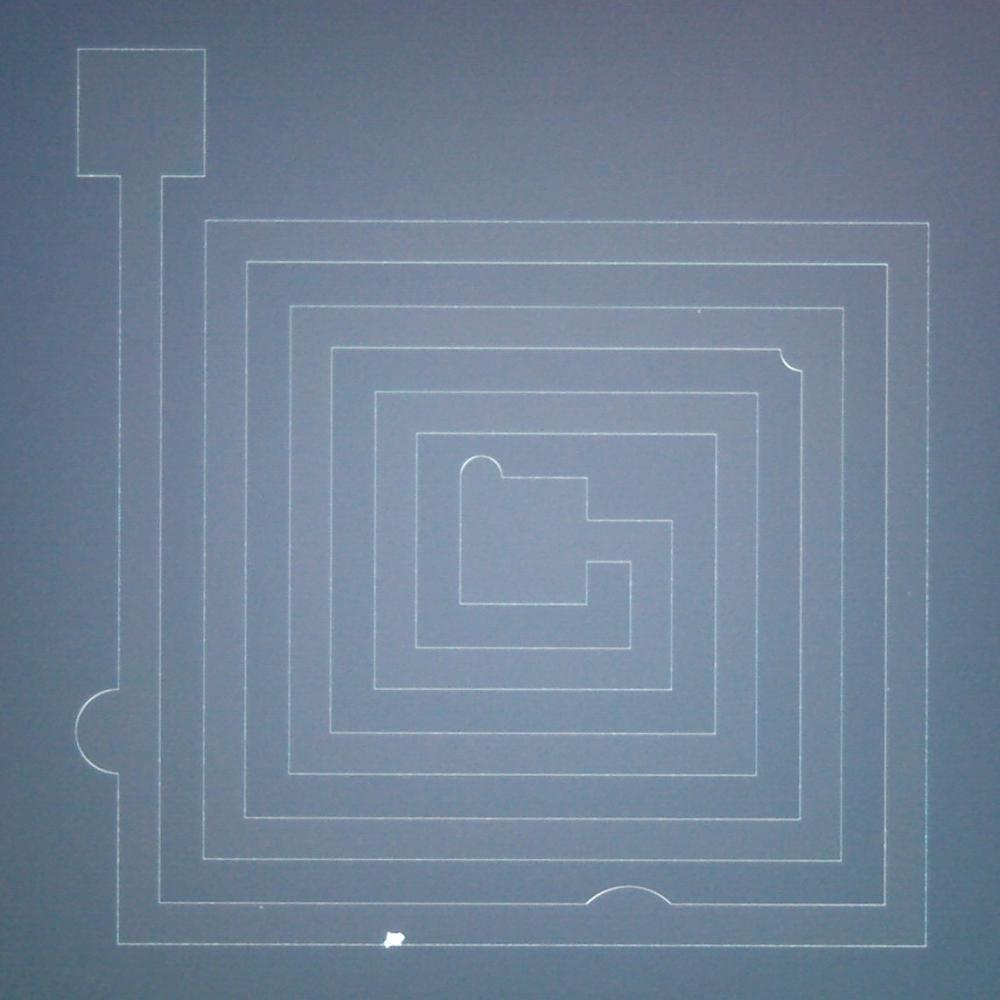curve circuit: (66, 668, 134, 796), (573, 876, 692, 918), (450, 447, 514, 492), (769, 338, 812, 386)
spot: (375, 916, 415, 956)
